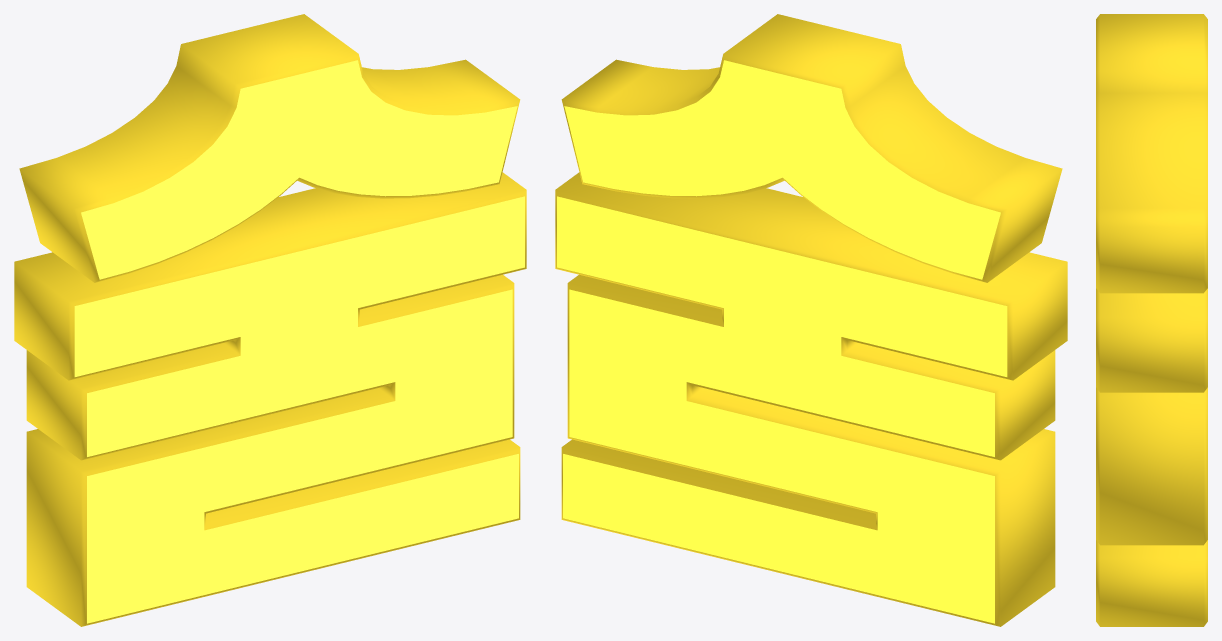
3 renders of one model, left to right at view 1: azimuth 30°, elevation 25°; view 2: azimuth 150°, elevation 25°; view 3: azimuth 270°, elevation 25°, orthographic. The views are drawn at different scales.
Parts seen in each view (by area): view 1: glyph; view 2: glyph; view 3: glyph.
Boxes of the visible parts, x1,y1,x2,y2 form: glyph: (14, 14, 526, 626); glyph: (555, 14, 1067, 626); glyph: (1096, 14, 1207, 626).
Size of the model in its own units: 0.0728 by 0.0768 by 0.0162.
